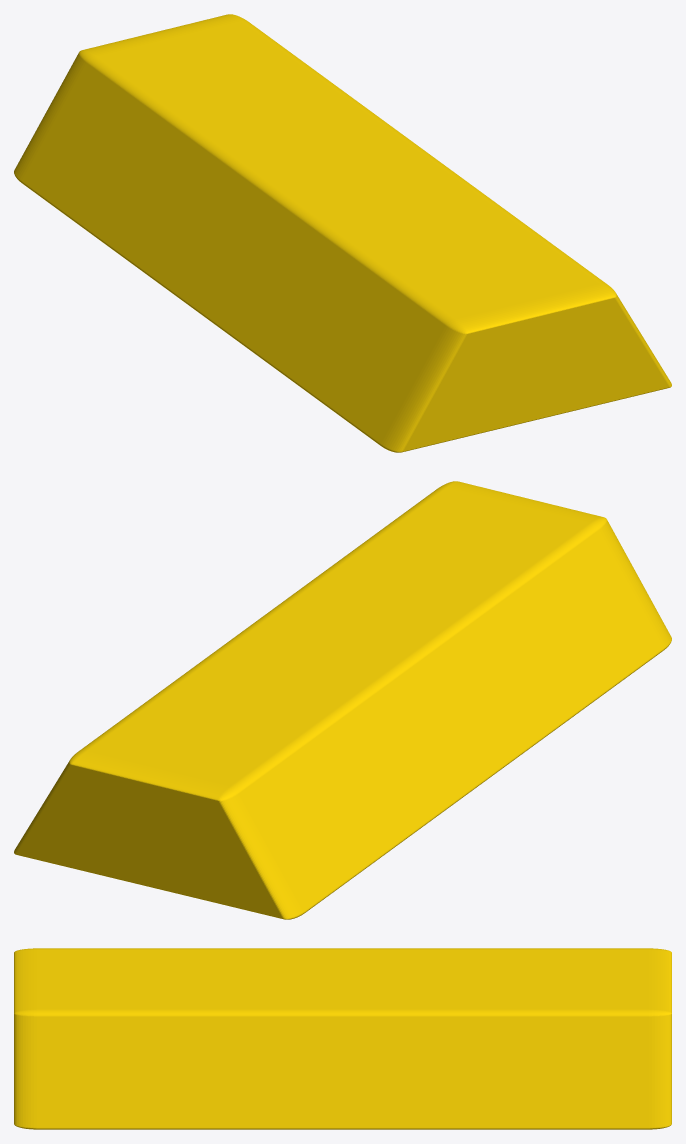
Rendered from goldIngot.fbx.
The picture shows the model from 3 angles, top to bottom: view 1: azimuth 30°, elevation 25°; view 2: azimuth 150°, elevation 25°; view 3: azimuth 270°, elevation 25°; orthographic projection. The views are drawn at different scales.
Parts seen in each view (by area): view 1: Cube; view 2: Cube; view 3: Cube.
Boxes of the visible parts, x1,y1,x2,y2 form: Cube: (14, 14, 671, 452); Cube: (14, 481, 671, 919); Cube: (14, 948, 671, 1129).
Bounding box in the file's own units: 254 × 94.98 × 600.
